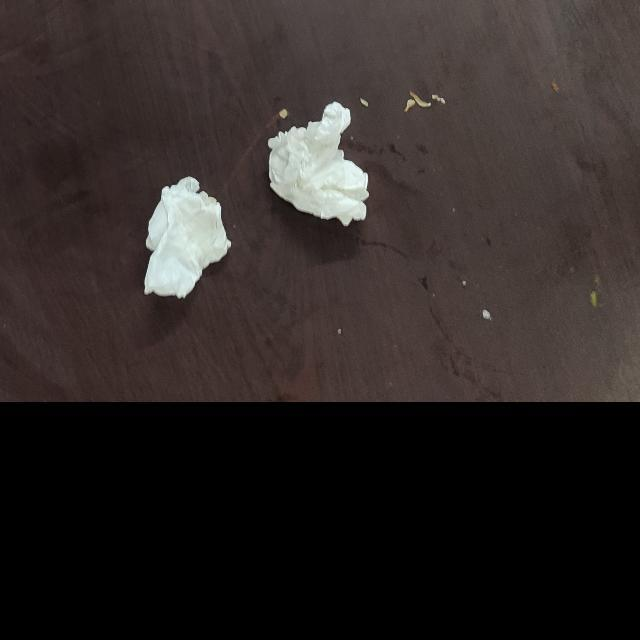kitchen paper: (265, 98, 376, 228), (142, 171, 236, 301)
